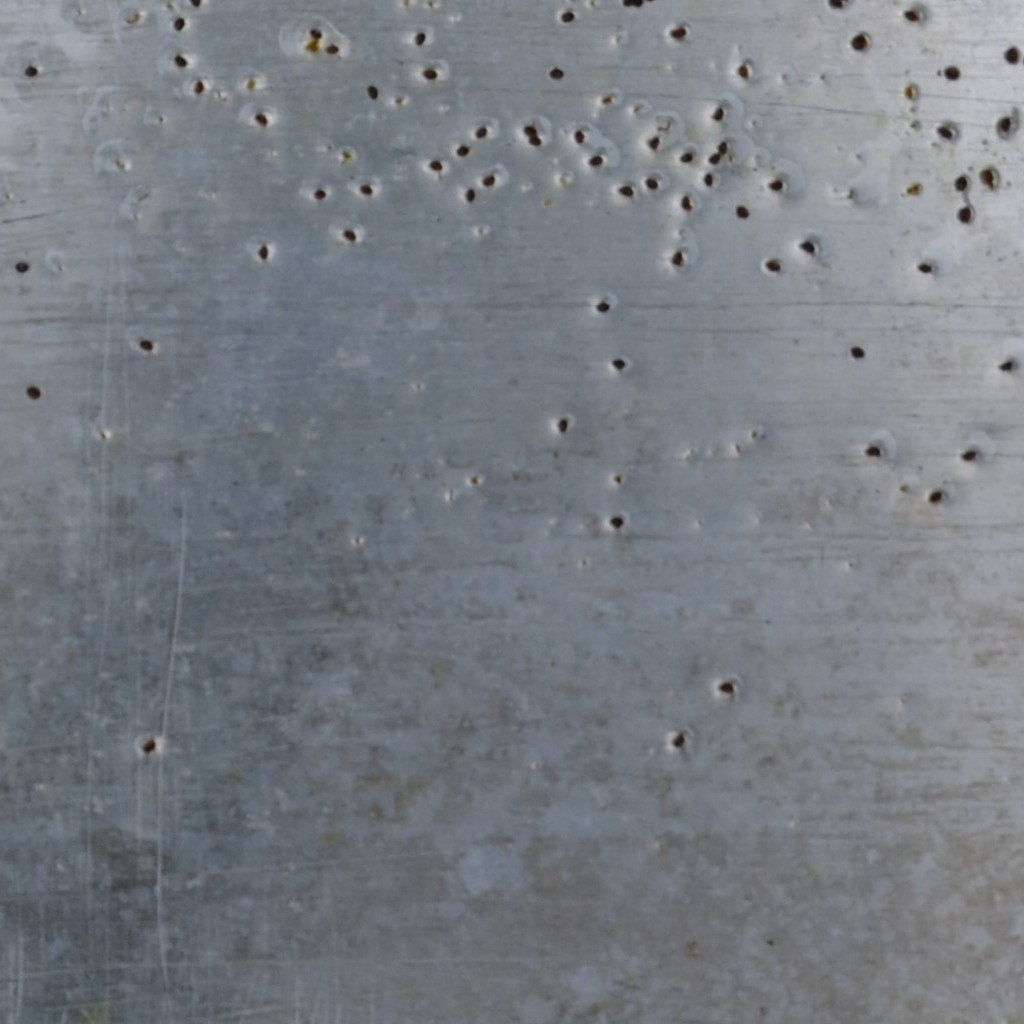varroa: (1001, 42, 1021, 68), (668, 246, 689, 268), (761, 256, 786, 274), (925, 487, 945, 508), (849, 33, 870, 53), (942, 62, 961, 83), (995, 357, 1016, 376), (715, 679, 738, 696), (139, 734, 158, 754), (934, 122, 955, 140), (849, 343, 870, 360), (472, 119, 489, 140), (670, 729, 687, 750), (340, 223, 357, 244), (956, 204, 972, 226), (901, 4, 919, 23), (609, 354, 628, 372), (172, 52, 190, 71), (961, 443, 978, 463), (797, 237, 817, 254), (733, 203, 753, 220), (710, 102, 726, 123), (322, 42, 343, 58), (255, 241, 271, 262), (547, 65, 565, 83), (252, 109, 270, 127), (23, 383, 41, 401), (997, 115, 1014, 134), (312, 184, 329, 203), (864, 443, 884, 459), (617, 183, 637, 199), (419, 66, 439, 82), (764, 178, 785, 193), (953, 175, 970, 193), (586, 153, 604, 170), (170, 15, 187, 33), (678, 193, 694, 212), (307, 23, 324, 40), (981, 170, 997, 188), (607, 514, 625, 530), (190, 77, 206, 95), (643, 135, 662, 150), (594, 300, 613, 315), (555, 416, 570, 435), (366, 82, 381, 101), (12, 260, 31, 275), (917, 259, 933, 276), (735, 61, 751, 78), (427, 157, 444, 173), (358, 181, 375, 197), (668, 26, 687, 40), (22, 63, 41, 77), (572, 125, 585, 145), (138, 337, 154, 353), (701, 170, 716, 187), (521, 121, 538, 136), (480, 172, 498, 186), (414, 28, 427, 47), (678, 149, 694, 164), (559, 9, 575, 24), (455, 143, 470, 159), (463, 186, 476, 204), (717, 140, 731, 155), (527, 133, 543, 146), (643, 177, 660, 189), (707, 150, 722, 163), (621, 1, 643, 9), (828, 0, 845, 9), (188, 0, 205, 8)
